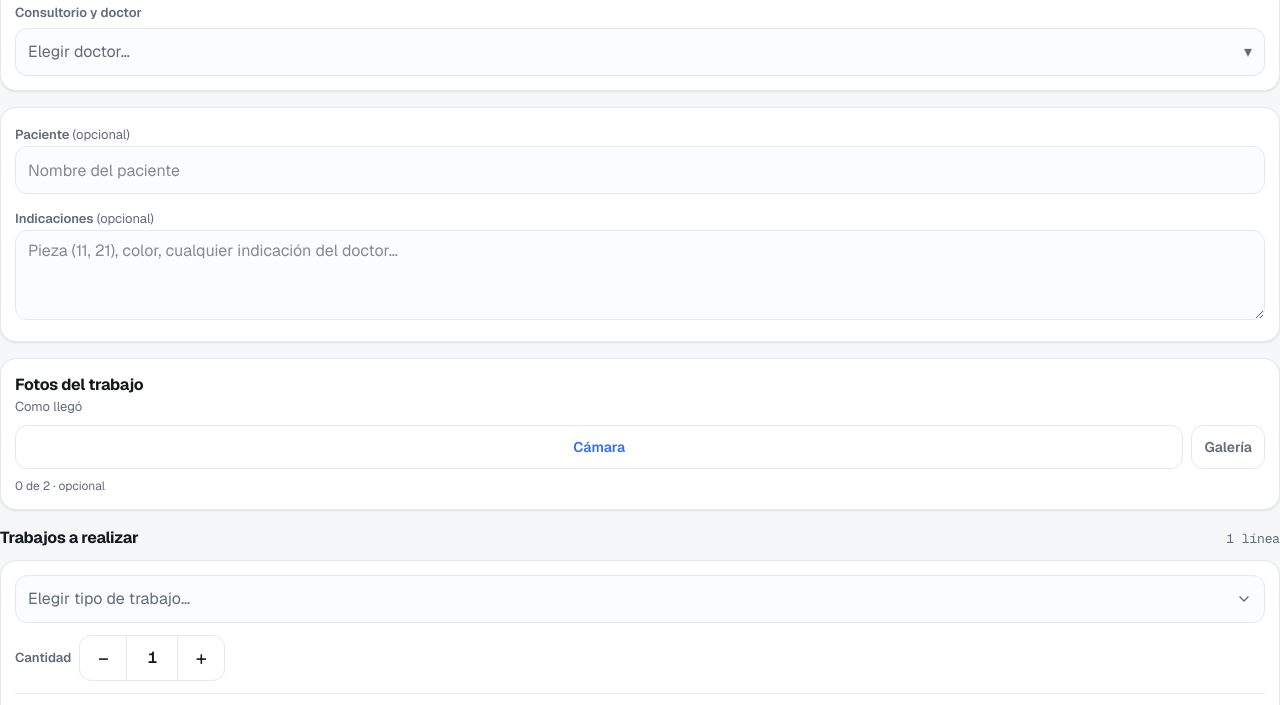
Scenario: TrabajoForm — fecha de entrega en un alta › muestra de dónde sale el plazo
Click the button "Elegir tipo de trabajo…" at (109, 598), box [15, 574, 1265, 622]
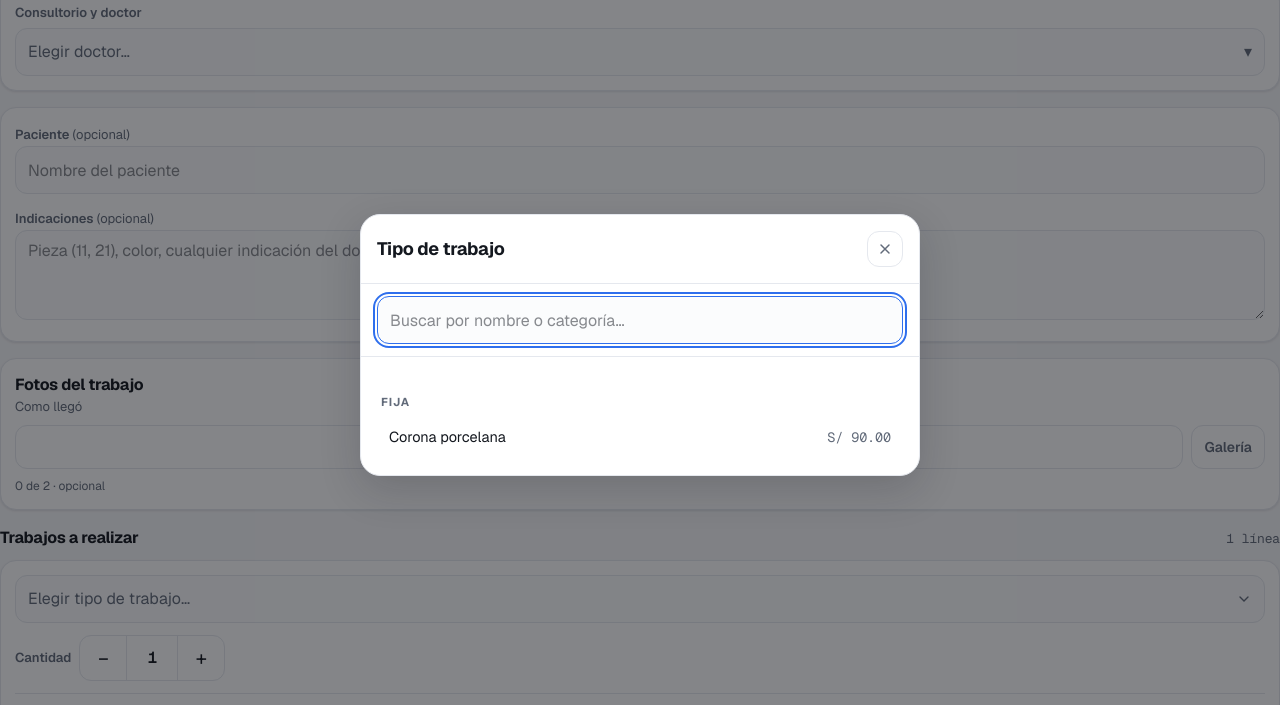
Click the button "Corona porcelana S/ 90.00" at (447, 436), box [377, 415, 903, 459]
(page scrolled)
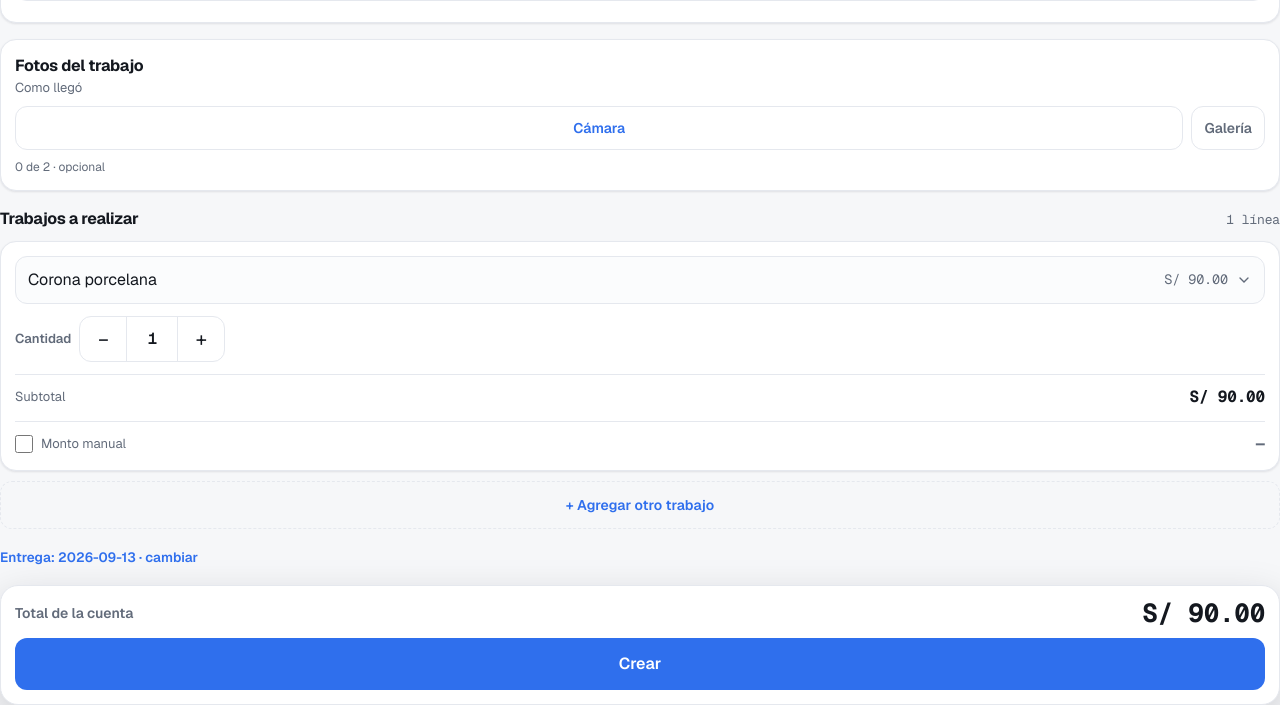
Click the button "Entrega: 2026-09-13 · cambiar" at (99, 557), box [0, 546, 198, 567]
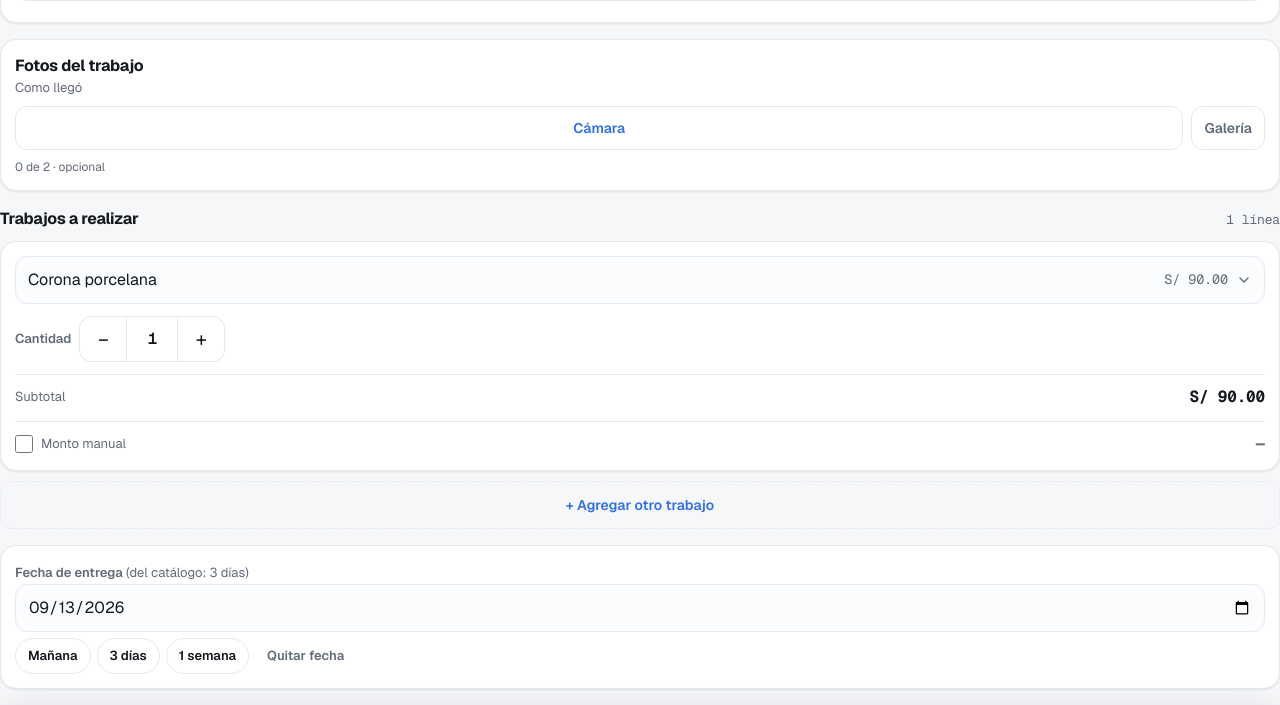
Result: the text "del catálogo: 3 días" is shown at [126, 564, 249, 580]
